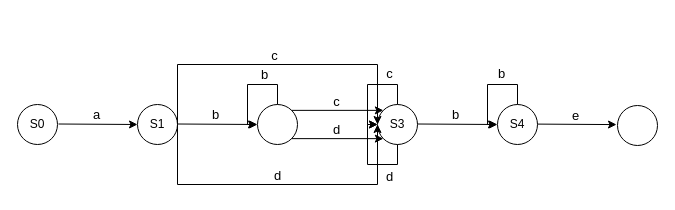
Image size: 675x210. Some labels were removed from this diagram. The centre of each missing label's shape, as x and y in pixels:
S2: (277,124)
S5: (637,125)
